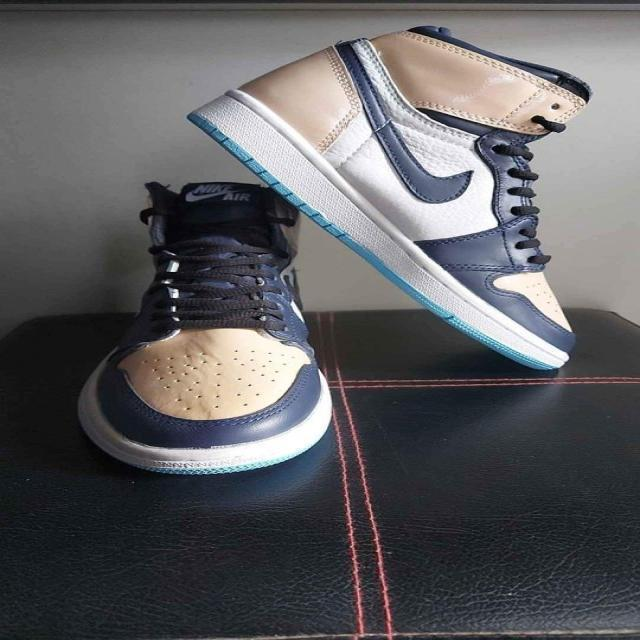nike fake jordan 1: (186, 14, 592, 372), (82, 144, 341, 476)
